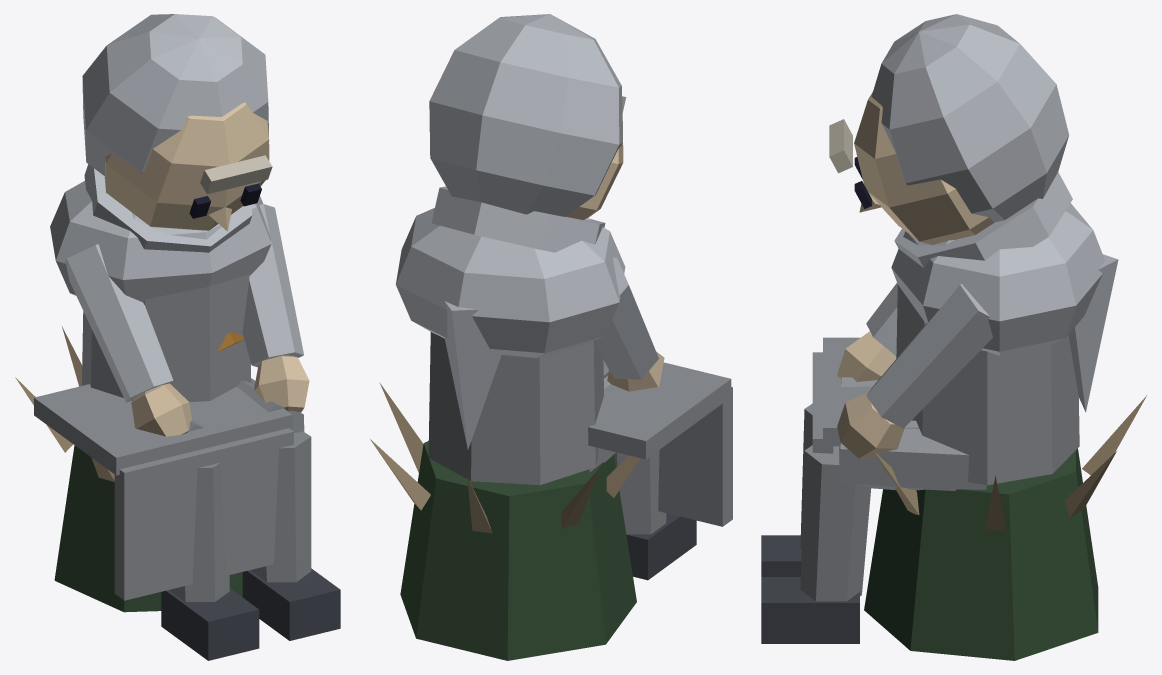
The model's file is unmoored_shawl.glb.
3 views of the same model, side by side, from view 1: azimuth 30°, elevation 25°; view 2: azimuth 150°, elevation 25°; view 3: azimuth 270°, elevation 25° (orthographic). The views are drawn at different scales.
Parts seen in each view (by area): view 1: LegL, Head, Torso, ArmR, LegR, Stool, ArmL; view 2: Torso, Stool, Head, LegL, LegR, ArmR; view 3: Head, Stool, Torso, LegL, ArmL, ArmR, LegR.
Boxes of the visible parts, x1,y1,x2,y2 form: LegL: (34, 378, 340, 640); Head: (82, 14, 272, 252); Torso: (50, 181, 271, 402); ArmR: (64, 244, 244, 436); LegR: (161, 420, 259, 660); Stool: (15, 326, 242, 612); ArmL: (242, 204, 309, 412); Torso: (395, 208, 625, 484); Stool: (370, 382, 640, 660); Head: (429, 14, 626, 252); LegL: (588, 360, 732, 526); LegR: (584, 372, 696, 580); ArmR: (596, 257, 664, 391); Head: (829, 14, 1072, 267); Stool: (864, 395, 1146, 660); Torso: (891, 203, 1118, 485); LegL: (761, 337, 986, 643); ArmL: (837, 284, 992, 458); ArmR: (837, 283, 897, 381); LegR: (761, 377, 877, 576).
Bounding box in the file's own units: 0.76 × 1.57 × 0.9405.
